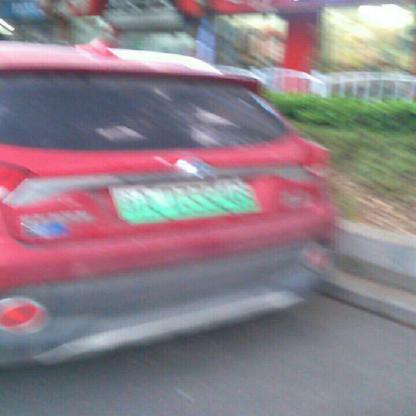lp: (108, 178, 254, 217)
